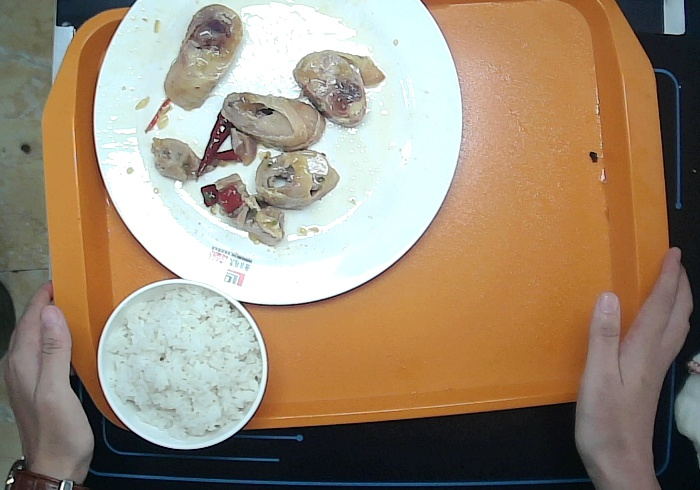ZNLD-Da_Yuan_Pan: (89, 1, 464, 307)
ZNLD-Fan_Wan: (94, 276, 270, 452)
